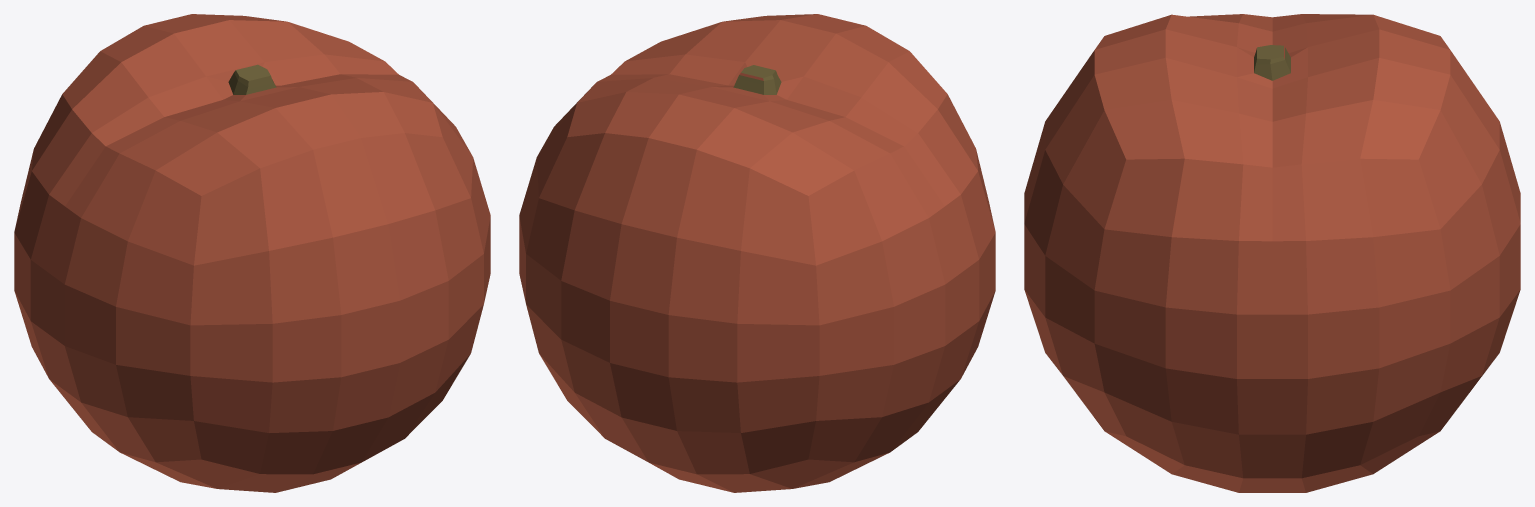
File: peach.fbx
3 views of the same model, side by side, from view 1: azimuth 30°, elevation 25°; view 2: azimuth 150°, elevation 25°; view 3: azimuth 270°, elevation 25° (orthographic). The views are drawn at different scales.
Parts seen in each view (by area): view 1: peach_Roundcube.006; view 2: peach_Roundcube.006; view 3: peach_Roundcube.006.
Part boxes in pixels (<box>): peach_Roundcube.006: <box>14,14,490,492</box>; peach_Roundcube.006: <box>519,14,995,492</box>; peach_Roundcube.006: <box>1024,14,1520,492</box>.
Size of the model in its own units: 261 by 245 by 261.
